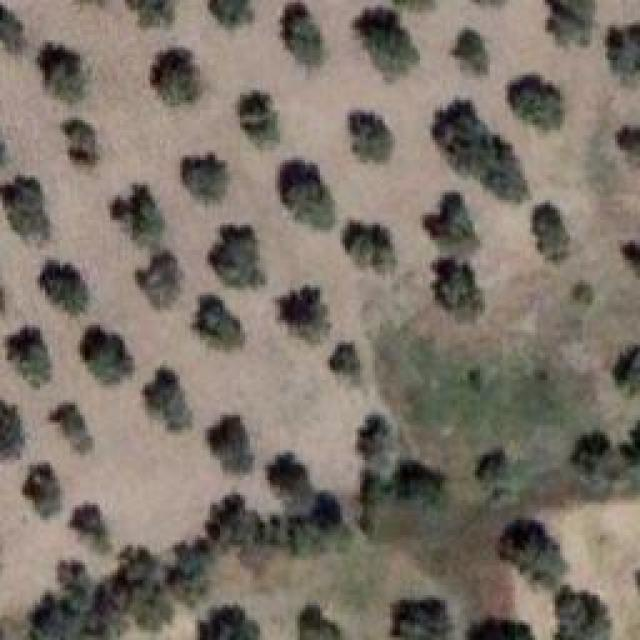Tree: (353, 5, 426, 87), (500, 518, 572, 594), (432, 98, 490, 164), (213, 228, 268, 292), (548, 592, 618, 640), (433, 258, 485, 322), (480, 140, 529, 205), (283, 168, 334, 230), (175, 154, 230, 210), (508, 75, 564, 130), (388, 592, 450, 640), (426, 198, 478, 254), (565, 432, 614, 490), (170, 547, 219, 605), (275, 7, 322, 66), (40, 260, 92, 312), (115, 193, 165, 246), (5, 180, 49, 240), (150, 378, 197, 434), (8, 336, 52, 394), (150, 53, 200, 104), (394, 457, 448, 504), (542, 3, 600, 46), (208, 415, 249, 471), (280, 292, 331, 337), (42, 53, 89, 101), (205, 498, 252, 545), (235, 103, 281, 150), (140, 260, 184, 309), (602, 25, 639, 83), (192, 303, 237, 350), (352, 115, 397, 162), (267, 455, 312, 502), (348, 228, 397, 271), (535, 210, 573, 263), (455, 25, 496, 74), (200, 607, 260, 640), (355, 418, 394, 467), (202, 0, 258, 33), (63, 123, 100, 171), (20, 468, 56, 516), (70, 500, 110, 543), (468, 613, 531, 640), (58, 555, 96, 599), (88, 340, 127, 382), (130, 0, 178, 34), (295, 605, 338, 640), (328, 345, 366, 384), (55, 403, 90, 444), (615, 343, 640, 393), (3, 10, 30, 54), (470, 450, 509, 478), (617, 119, 640, 162), (0, 407, 19, 458), (468, 368, 495, 396), (625, 422, 640, 470), (488, 488, 518, 510), (573, 283, 598, 308), (623, 238, 640, 274)
